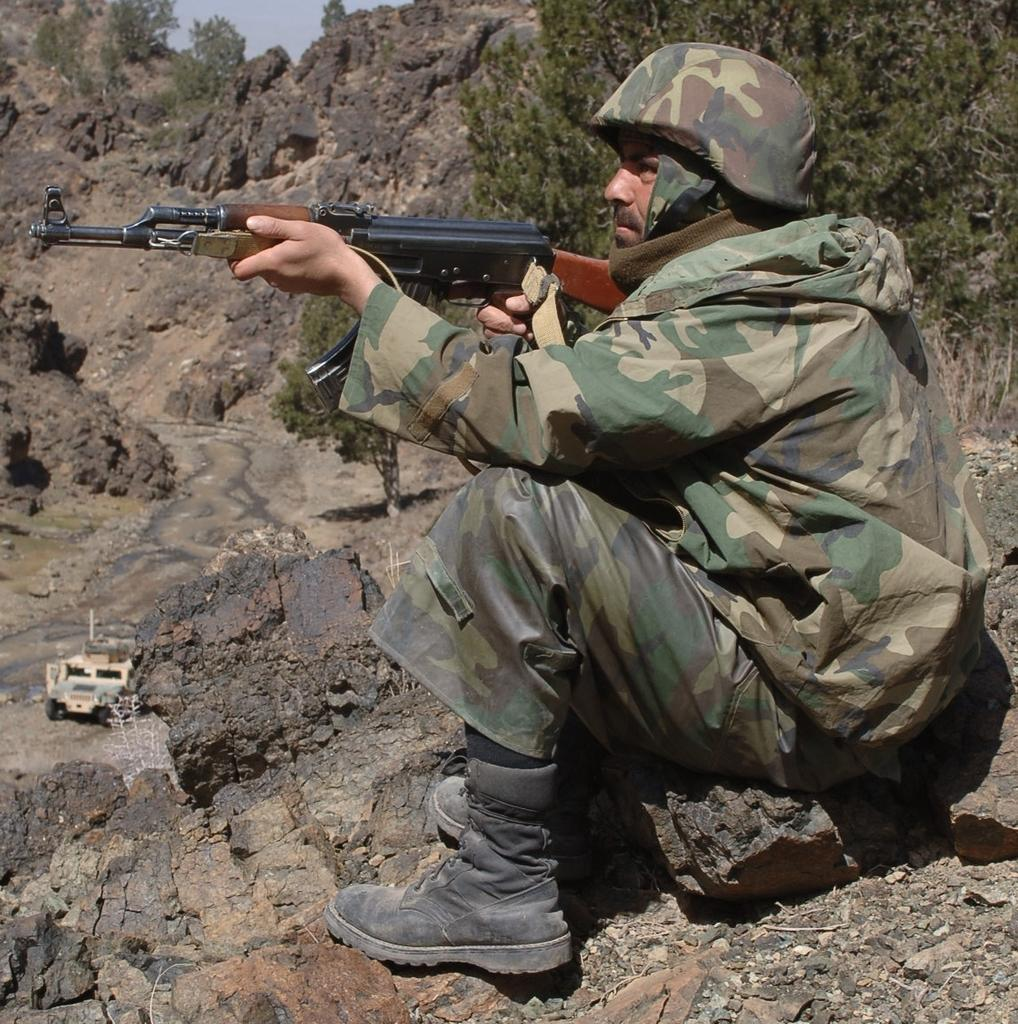Rifle: (25, 192, 631, 386)
